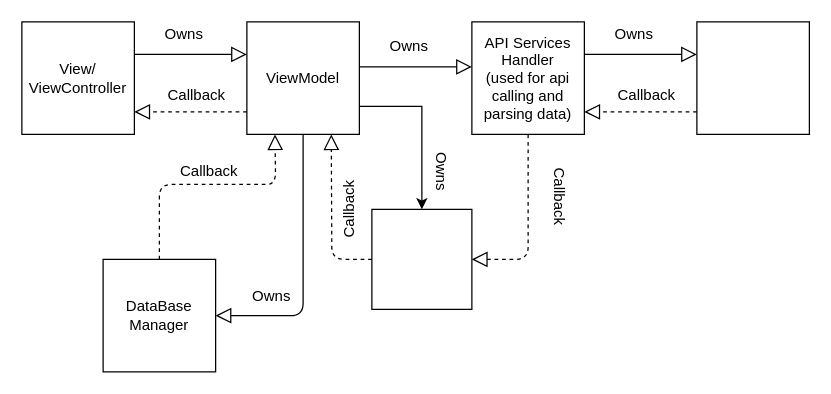
Image size: 831x394. Some labels were removed from this diagram. Here are the shapes that lost their labels. From the top down, the centre of each, then its label:
pixel 752 77: HTPP Client (Almofire)
pixel 421 258: Model
